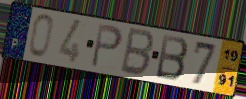0: (27, 12, 57, 60)
4: (57, 17, 83, 67)
7: (192, 39, 217, 87)
B: (118, 26, 157, 79), (154, 33, 190, 83)
P: (89, 22, 124, 69)
